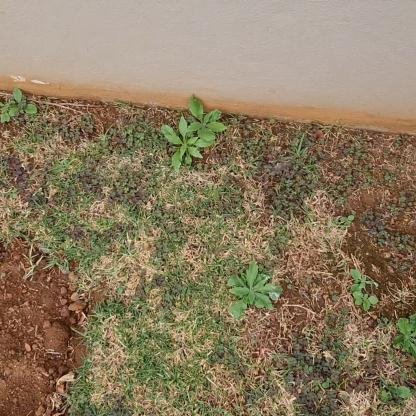Weeds: (226, 261, 283, 320), (160, 117, 215, 175), (186, 94, 228, 145), (0, 88, 38, 124), (394, 315, 415, 364), (382, 379, 411, 405), (350, 268, 371, 297), (354, 292, 379, 314), (338, 212, 356, 230)
